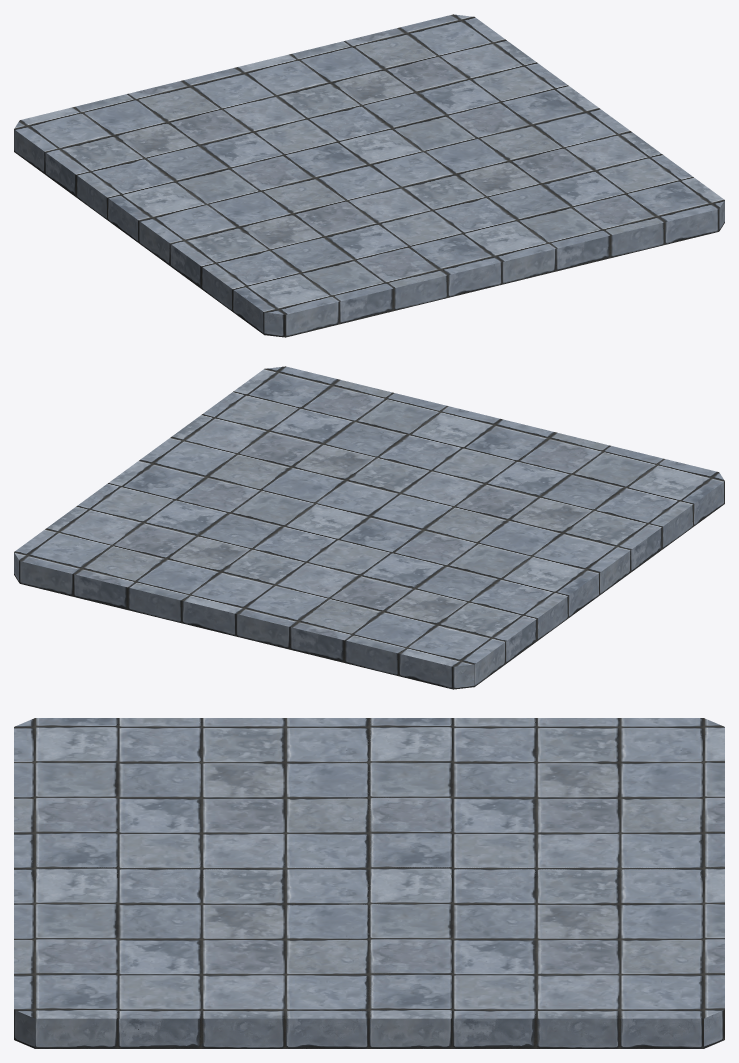
Rendered from walk_road.obj.
3 renders of one model, top to bottom at view 1: azimuth 30°, elevation 25°; view 2: azimuth 150°, elevation 25°; view 3: azimuth 270°, elevation 25°, orthographic. The views are drawn at different scales.
Visible parts, largest first — view 1: mergedBlocks; view 2: mergedBlocks; view 3: mergedBlocks.
Part boxes in pixels (left/top/right/bottom): mergedBlocks: left=14, top=14, right=724, bottom=337; mergedBlocks: left=14, top=366, right=724, bottom=689; mergedBlocks: left=14, top=718, right=724, bottom=1048.
Size of the model in its own units: 2.12 by 0.1 by 2.12.
1 material, 1 textured.
